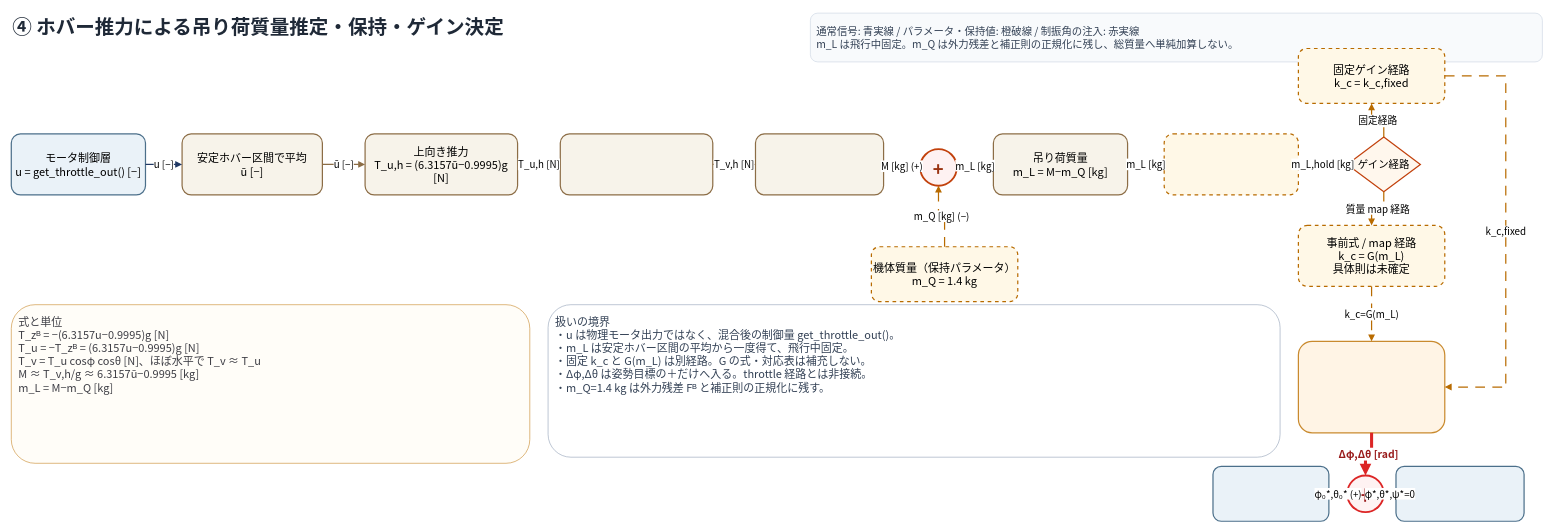
The diagram is 1553 pixels wide and 532 high, and some of its shapes have lost their labels. Here are the shapes that lost their labels. From the top down, the centre of each, then its label:
At (636,164): "鉛直推力成分 T_v,h = T_u,h cosφ cosθ [N]".
At (819,164): "総質量 M ≈ T_v,h/g [kg]".
At (1231,164): "飛行中の保持値 m_L,hold [kg]".
At (1371,386): "方式 A の補正則へ Δφ = clip(k_c F̂_y/m_Q) Δθ = clip(−k_c F̂_x/m_Q) Δψ = 0 [rad]".
At (1270,493): "φ₀*, θ₀* [rad]".
At (1459,493): "姿勢目標へ φ*, θ*, ψ*".
